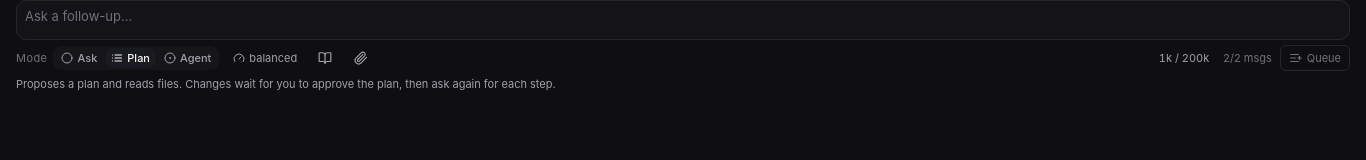
Test: Feature: zoc-agent-chat-rebuild, task 22.13: Conversation_Mode selection (R32.1, R32.2) › keeps the mode live while a Run streams (R32.1, R8.7)
This screenshot has width=1366, height=160.
Press the mouse on the tab "Ask" at x=79, y=58, box [56, 48, 103, 68]
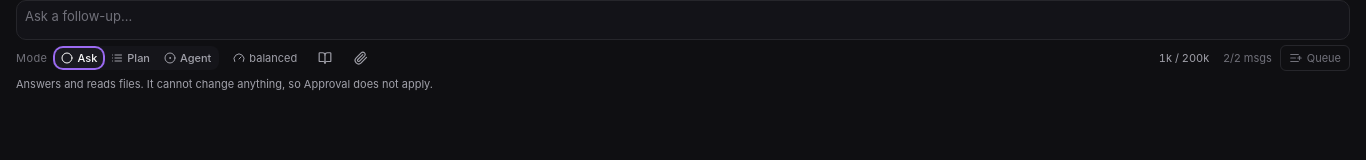
Type "stop editing and just explain" into the text box with placeholder "Ask a follow-up…".
click(683, 17); type("stop editing and just explain")  # box [25, 7, 1341, 27]
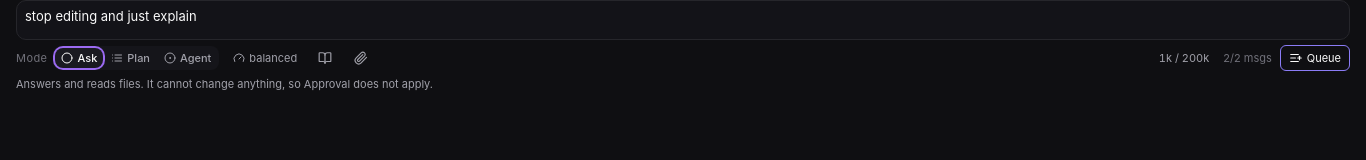
Expected: the button "Queue" is enabled, [1280, 45, 1350, 71]
